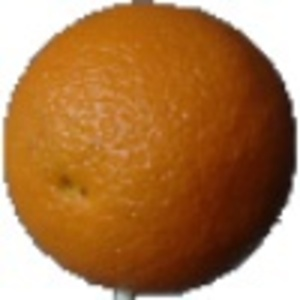laranja: (4, 1, 295, 295)
